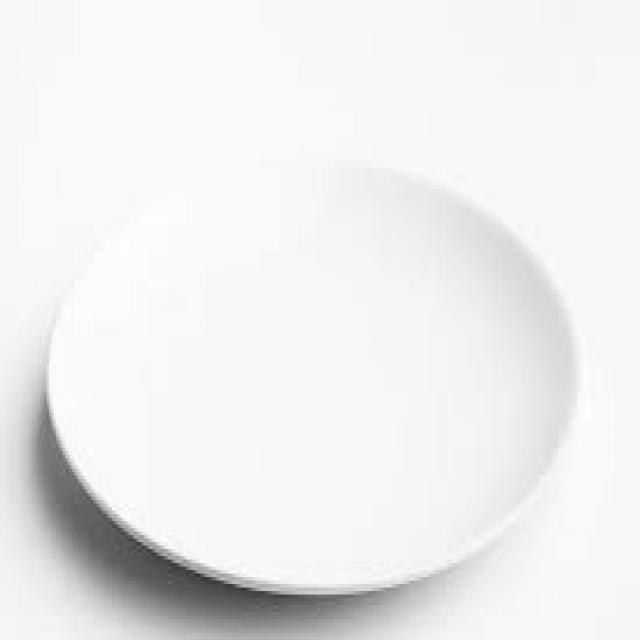dish: (21, 101, 598, 613)
